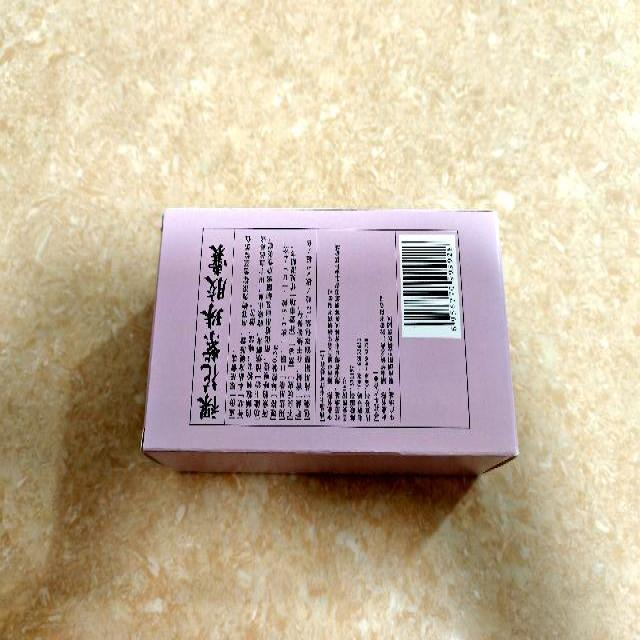box: (140, 206, 520, 477)
